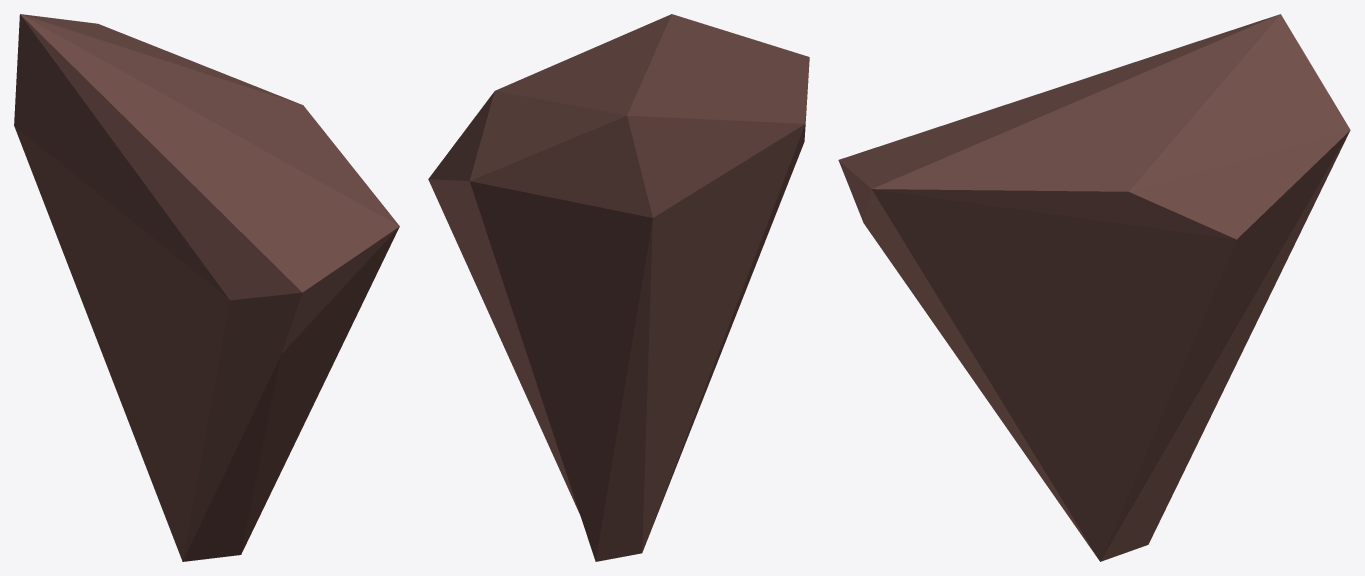
The model's file is CommonTree_Dead_1.lod4.glb.
3 views of the same model, side by side, from view 1: azimuth 30°, elevation 25°; view 2: azimuth 150°, elevation 25°; view 3: azimuth 270°, elevation 25° (orthographic). The views are drawn at different scales.
Parts seen in each view (by area): view 1: CommonTree_Dead_1; view 2: CommonTree_Dead_1; view 3: CommonTree_Dead_1.
Boxes of the visible parts, left/top/right/bottom form: CommonTree_Dead_1: left=14, top=14, right=399, bottom=561; CommonTree_Dead_1: left=428, top=14, right=809, bottom=561; CommonTree_Dead_1: left=838, top=14, right=1350, bottom=561.
Size of the model in its own units: 1.06 by 2.23 by 2.13.
